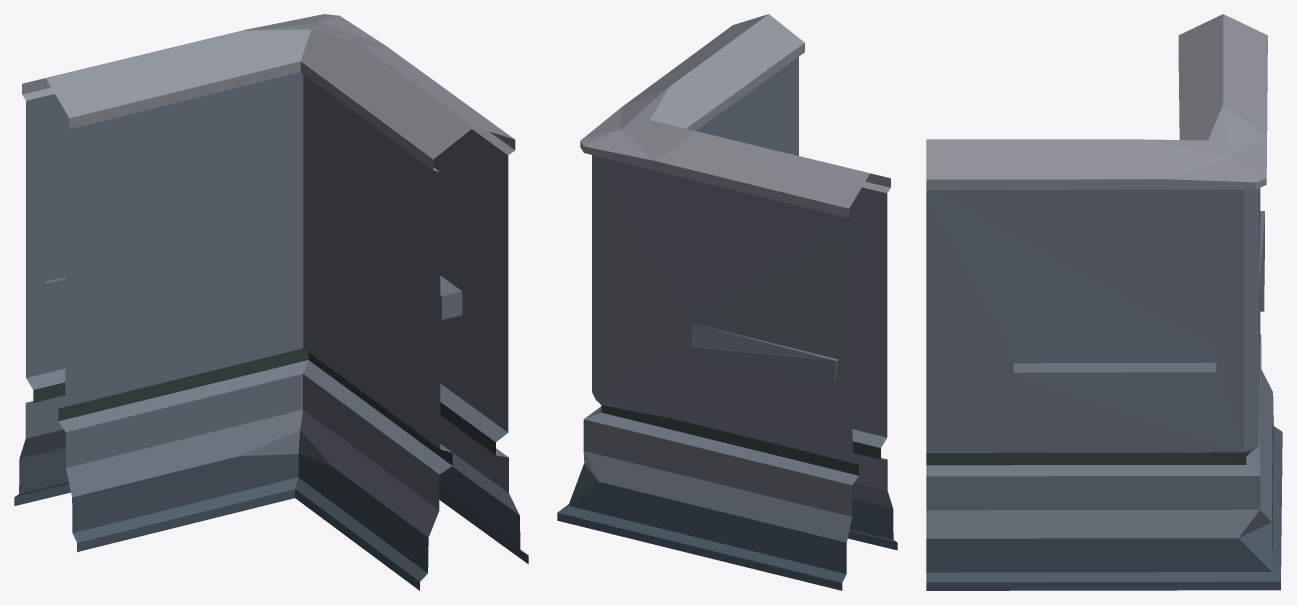
The model's file is SharpCorner2.fbx.
3 renders of one model, left to right at view 1: azimuth 30°, elevation 25°; view 2: azimuth 150°, elevation 25°; view 3: azimuth 270°, elevation 25°, orthographic. The views are drawn at different scales.
Parts seen in each view (by area): view 1: SharpCorner2; view 2: SharpCorner2; view 3: SharpCorner2.
Part boxes in pixels (<box>): SharpCorner2: <box>14,14,528,590</box>; SharpCorner2: <box>557,14,897,590</box>; SharpCorner2: <box>926,14,1282,590</box>.
Size of the model in its own units: 360 by 476 by 360.
